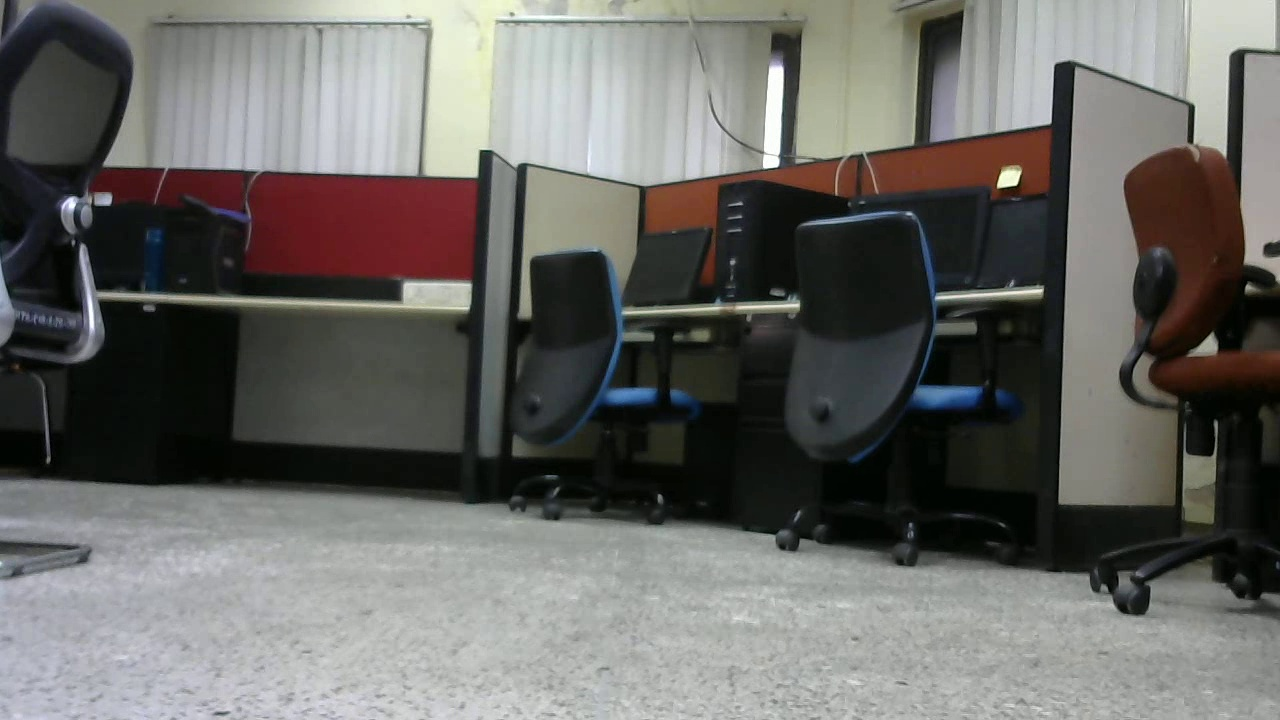chair: (724, 203, 1023, 572), (1088, 134, 1280, 610), (496, 236, 701, 526)
